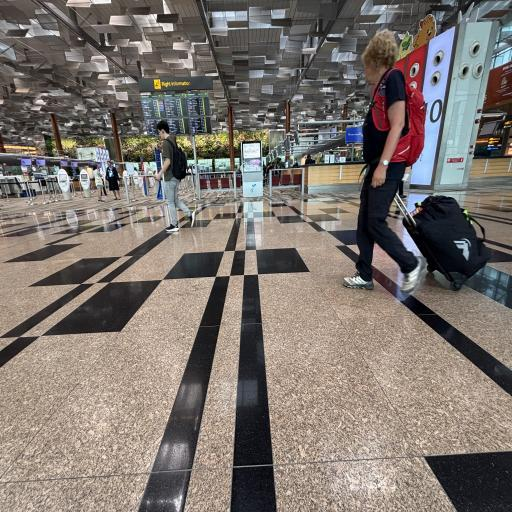person_left: (149, 118, 204, 237)
person_with_luggage_left: (338, 36, 492, 304)
